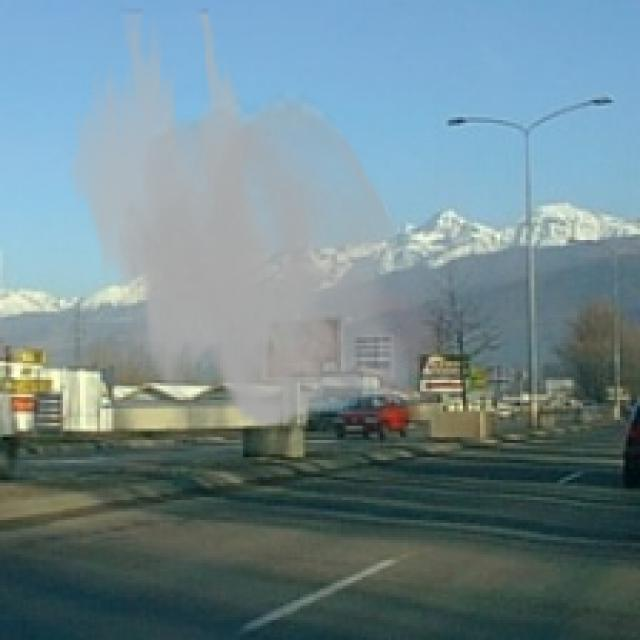Smoke: (66, 9, 412, 428)
